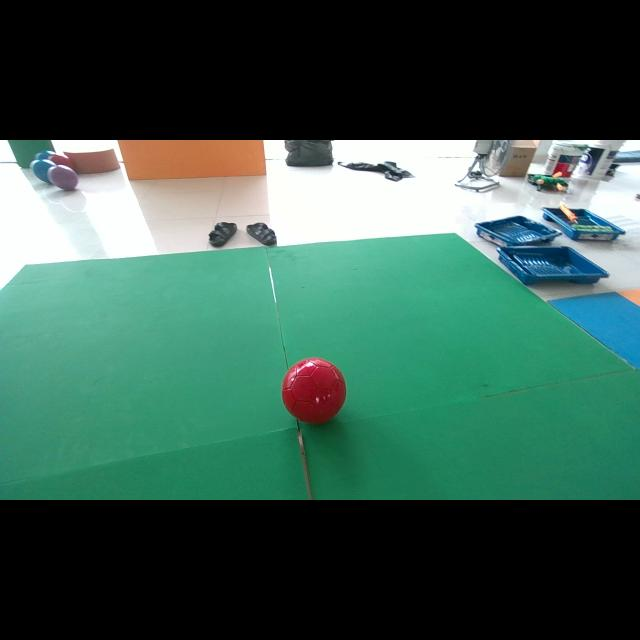R: (281, 358, 346, 424)
